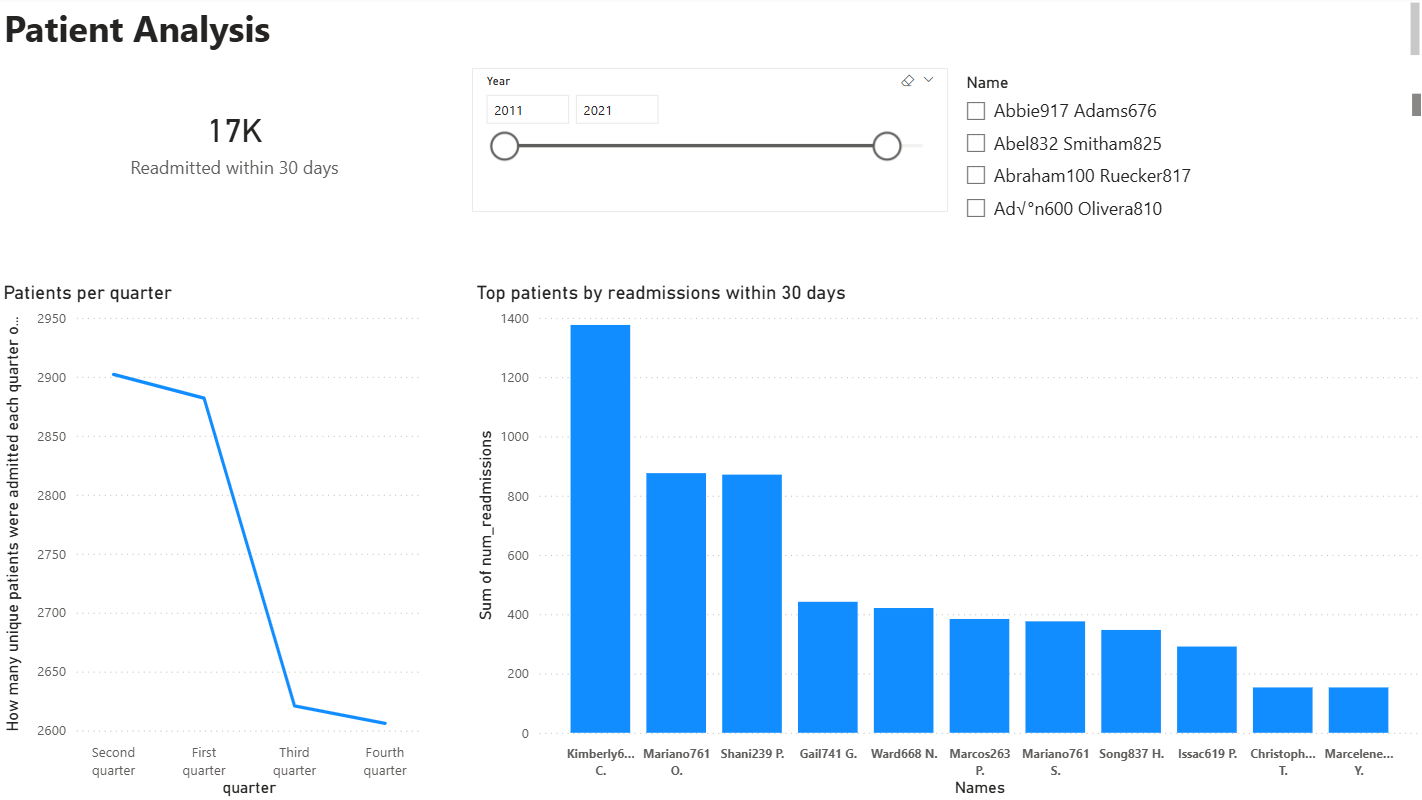

What the dashboard file says about the page in this screenshot:
{"tool":"powerbi","page":{"name":"Patient Analysis","canvas":[1280,720],"ordinal":3},"visuals":[{"type":"lineChart","title":"Patients per quarter","fields":{"Category":["public mart_patients_per_quarter.quarter"],"Y":["Sum(public mart_patients_per_quarter.unique_patients)"]},"box":[0,253.9,389,466.6],"z":0},{"type":"columnChart","title":"Top patients by readmissions  within 30 days","fields":{"Category":["public mart_readmissions_per_patient.Short Name"],"Y":["Sum(public mart_readmissions_per_patient.num_readmissions)"]},"box":[423.5,253.9,854.6,466.6],"z":1000},{"type":"card","fields":{"Values":["Sum(public mart_readmissions_per_patient.num_readmissions)"]},"box":[0,63.2,423.5,129.3],"z":2000},{"type":"slicer","fields":{"Values":["public mart_patients_per_quarter.godina"]},"box":[424.4,63.2,426.3,129.3],"z":3000},{"type":"slicer","fields":{"Values":["public mart_readmissions_per_patient.full_name"]},"box":[854.6,63.2,425.4,140.8],"z":4000},{"type":"textbox","box":[0,0,1278.1,63.2],"z":5000}]}

Visuals, with their boxes in screenshot pixels (x1, y1, x2, y2), scaled from the page's 1280x720 canvas onto the 1422x800 screenshot:
"Patients per quarter" lineChart: x1=0 y1=282 x2=432 y2=799
"Top patients by readmissions  within 30 days" columnChart: x1=470 y1=282 x2=1420 y2=799
card - Sum(public mart_readmissions_per_patient.num_readmissions): x1=0 y1=70 x2=470 y2=214
slicer - public mart_patients_per_quarter.godina: x1=471 y1=70 x2=945 y2=214
slicer - public mart_readmissions_per_patient.full_name: x1=949 y1=70 x2=1421 y2=227
textbox: x1=0 y1=0 x2=1420 y2=70
